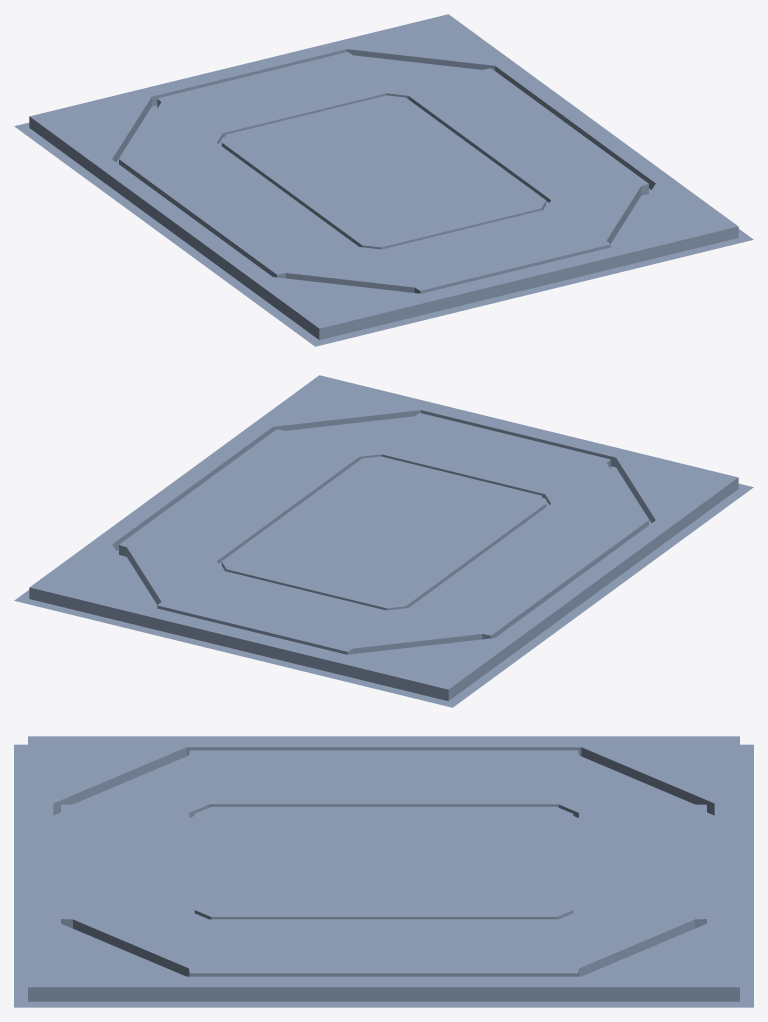
The model's file is T2_FloorSmall2.fbx.
3 renders of one model, top to bottom at view 1: azimuth 30°, elevation 25°; view 2: azimuth 150°, elevation 25°; view 3: azimuth 270°, elevation 25°, orthographic. The views are drawn at different scales.
Parts seen in each view (by area): view 1: T2_Floor7; view 2: T2_Floor7; view 3: T2_Floor7.
Boxes of the visible parts, x1,y1,x2,y2 form: T2_Floor7: (14, 14, 753, 346); T2_Floor7: (14, 375, 753, 707); T2_Floor7: (14, 736, 753, 1007).
Size of the model in its own units: 118 by 2.99 by 141.
